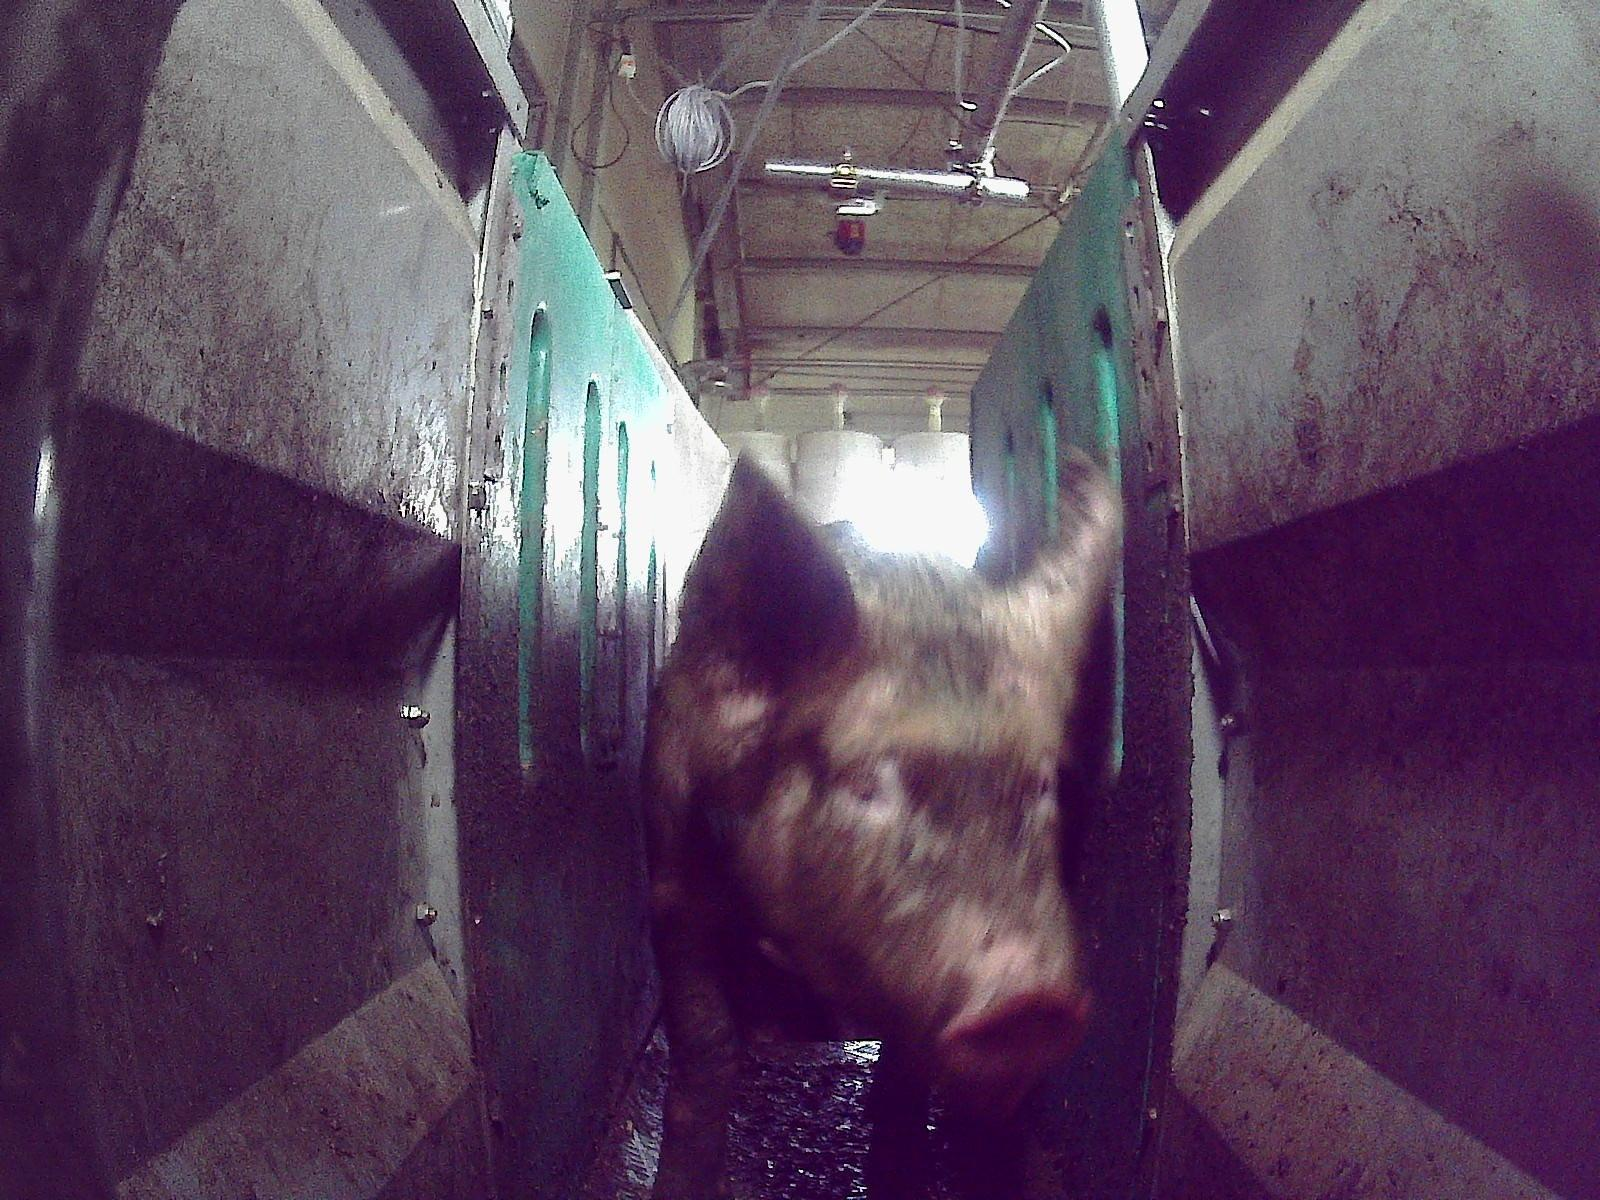Face: (744, 572, 1088, 1085)
